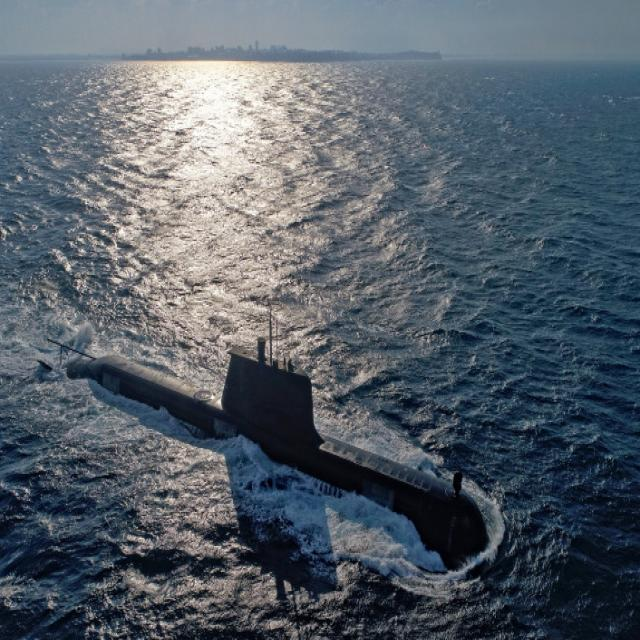submarine: (40, 316, 493, 553)
